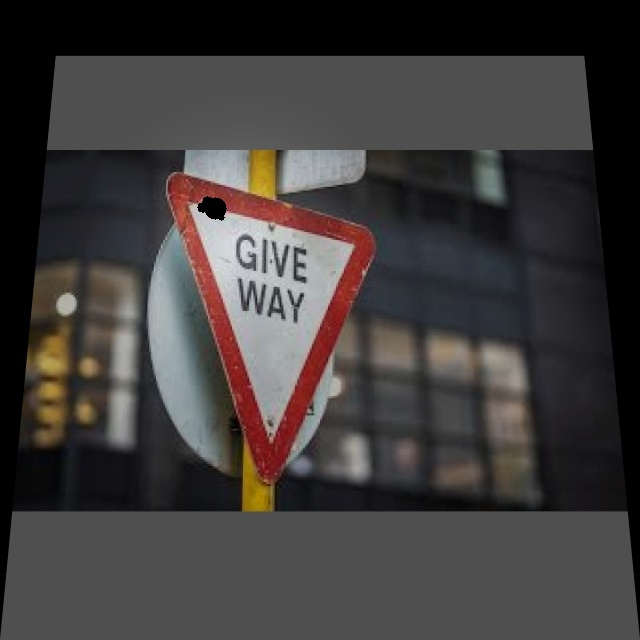Give_Way: (158, 175, 379, 485)
